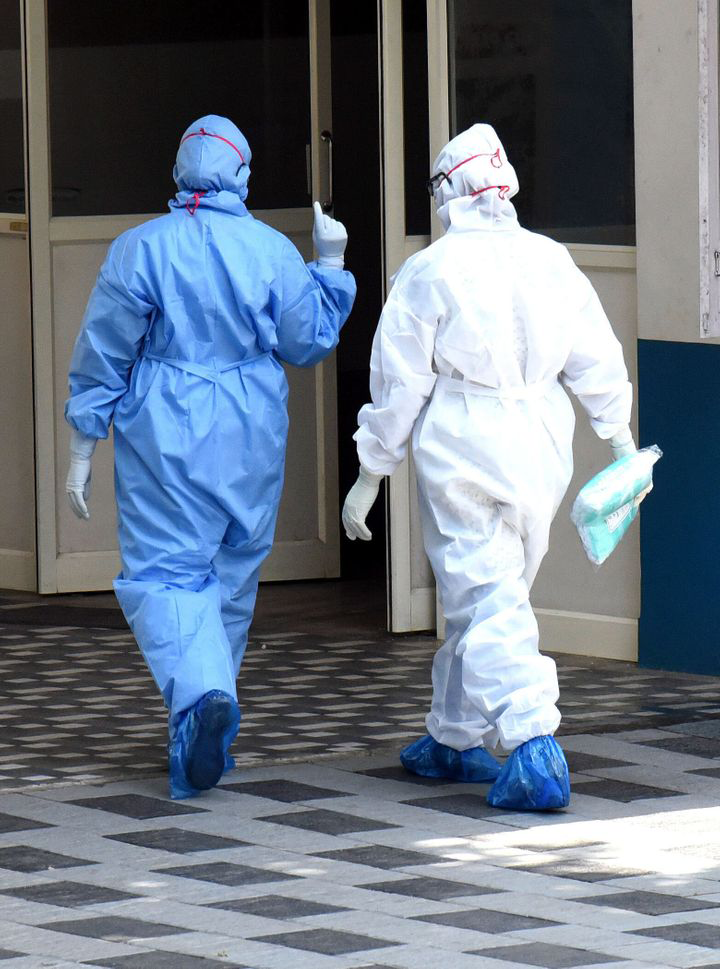Coverall: (67, 108, 354, 702), (364, 120, 630, 735)
Gloves: (341, 455, 393, 542), (66, 419, 106, 521), (303, 199, 351, 281)
